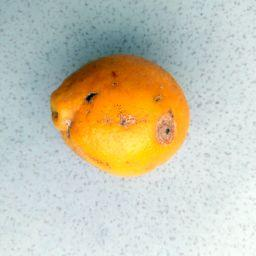Unripe: (53, 54, 189, 177)
